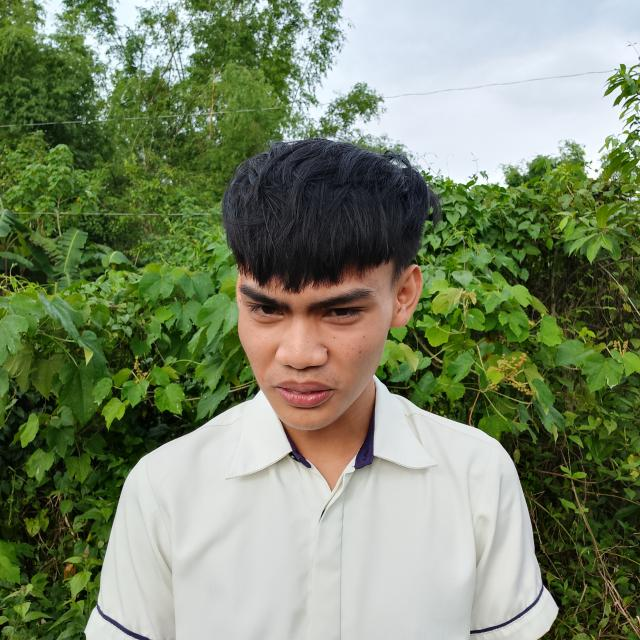education_male_uniform: (54, 365, 600, 640), (123, 343, 565, 592), (174, 372, 475, 548), (431, 411, 617, 640), (181, 369, 470, 506), (62, 406, 229, 640), (343, 359, 510, 507), (207, 399, 325, 506)
